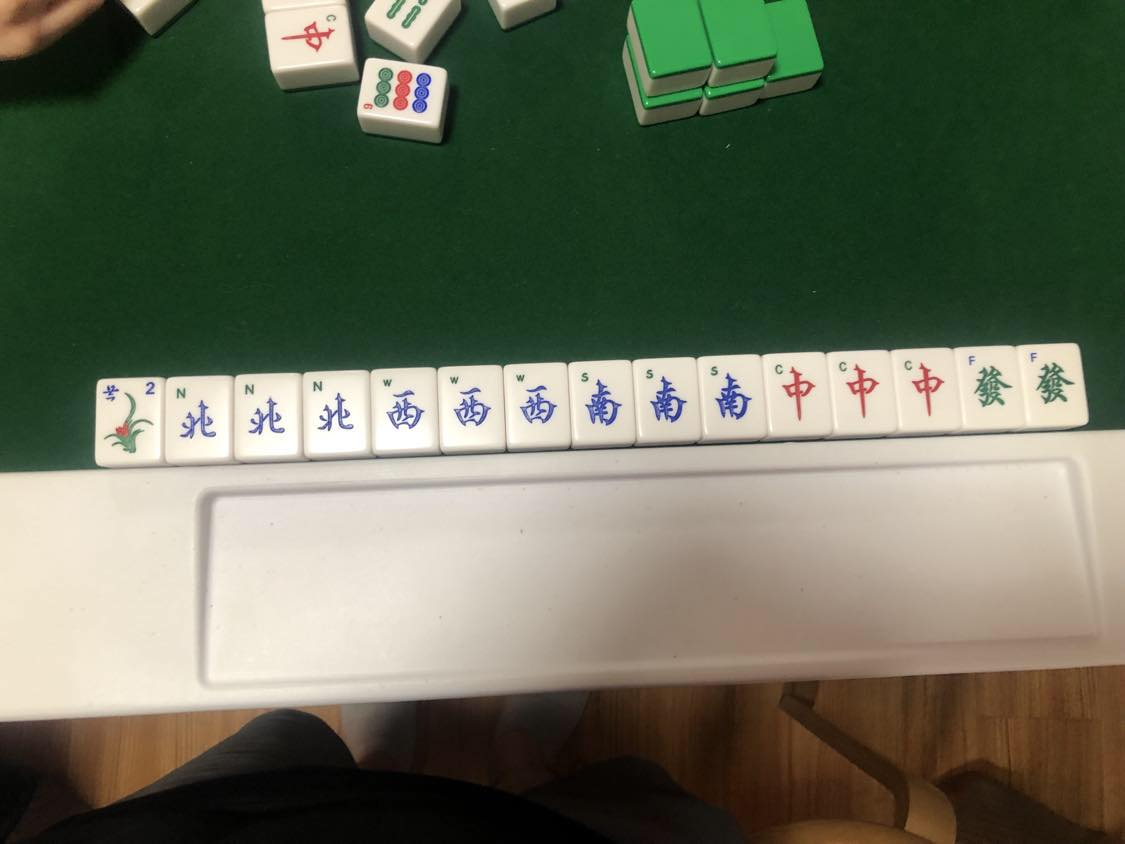flower-blue_two: (98, 379, 160, 457)
honor-green_dragon: (1025, 348, 1080, 416), (967, 354, 1014, 415)
honor-north_wind: (167, 381, 230, 456), (306, 374, 366, 450), (238, 378, 296, 454)
honor-red_dragon: (770, 358, 821, 430), (836, 354, 887, 426), (900, 355, 949, 423)
honor-south_wind: (705, 360, 759, 433), (640, 362, 693, 434), (574, 366, 628, 436)
honor-west_wind: (443, 370, 502, 441), (375, 373, 432, 444), (511, 366, 561, 437)
